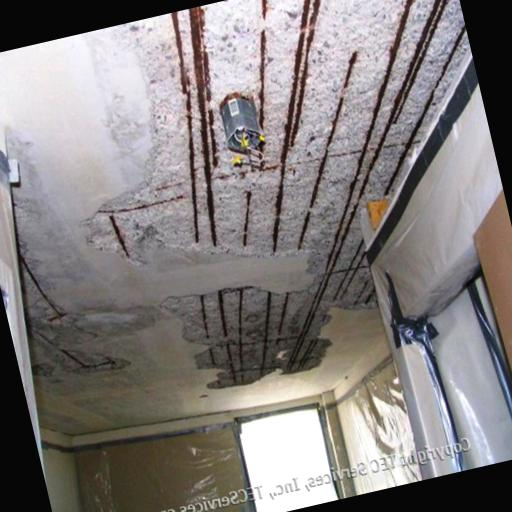spalling: (83, 0, 471, 390), (21, 246, 130, 376)
